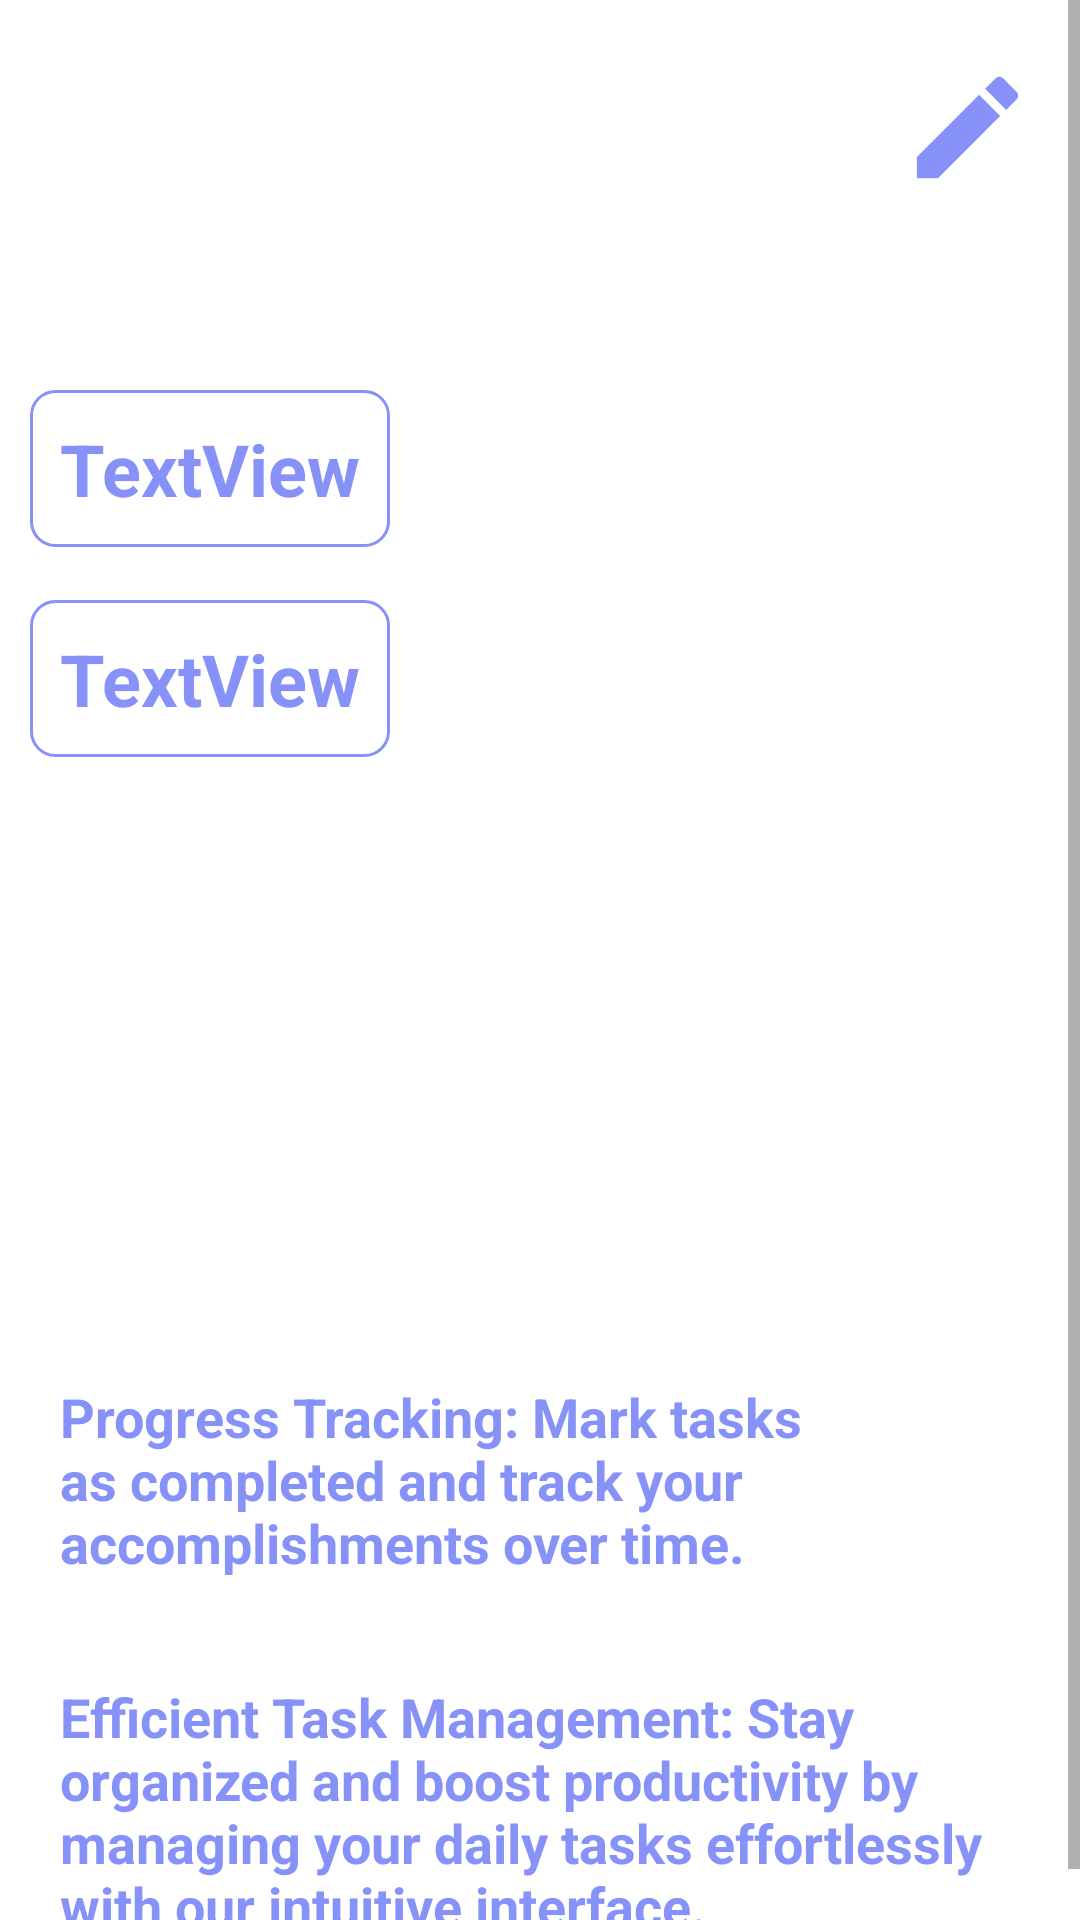

Icons on this 1080px x 1920px Android screen, each with its box as {"left": x1, "top": y1, "right": x2, "bottom": y2}:
edit: {"left": 917, "top": 76, "right": 1018, "bottom": 179}
